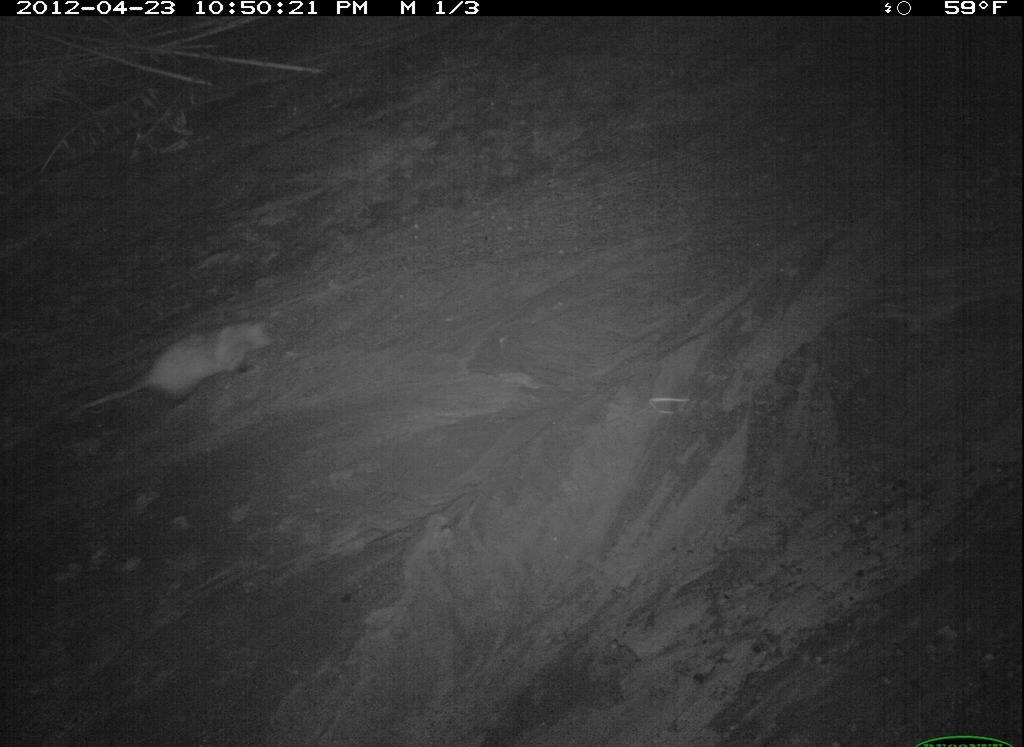opossum: (147, 620, 571, 747)
